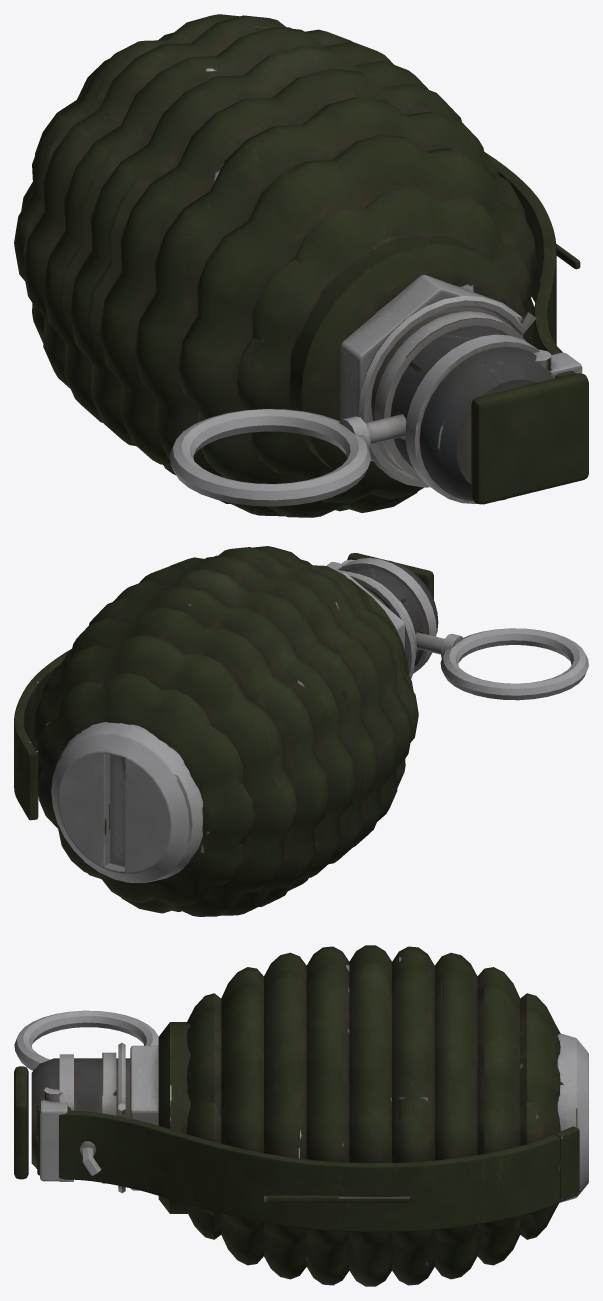
The model's file is grenade.glb.
The picture shows the model from 3 angles, top to bottom: view 1: azimuth 30°, elevation 25°; view 2: azimuth 150°, elevation 25°; view 3: azimuth 270°, elevation 25°; orthographic projection. The views are drawn at different scales.
Parts seen in each view (by area): view 1: mesh_body, mesh_lever, mesh_pin; view 2: mesh_body, mesh_pin, mesh_lever; view 3: mesh_body, mesh_lever, mesh_pin.
Boxes of the visible parts, x1,y1,x2,y2 form: mesh_body: (14, 14, 582, 517); mesh_lever: (471, 152, 588, 504); mesh_pin: (169, 409, 406, 506); mesh_body: (33, 546, 438, 916); mesh_pin: (415, 628, 588, 700); mesh_lever: (14, 553, 433, 820); mesh_body: (31, 945, 588, 1286); mesh_lever: (14, 1066, 579, 1232); mesh_pin: (14, 1010, 158, 1175).
Bounding box in the file's own units: 0.0774 × 0.0605 × 0.1017.
Materials: 3 (3 with a texture image).
